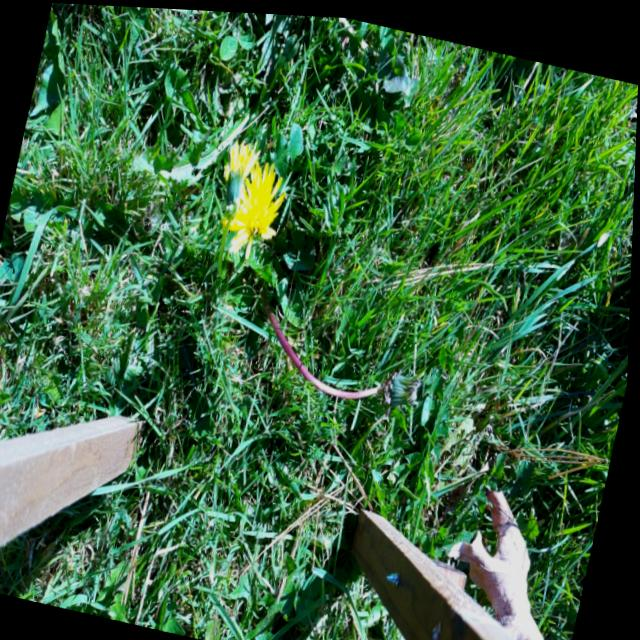base: (211, 241, 242, 280), (253, 268, 277, 302)
flower: (216, 144, 290, 257), (213, 149, 250, 211), (384, 365, 426, 408)
